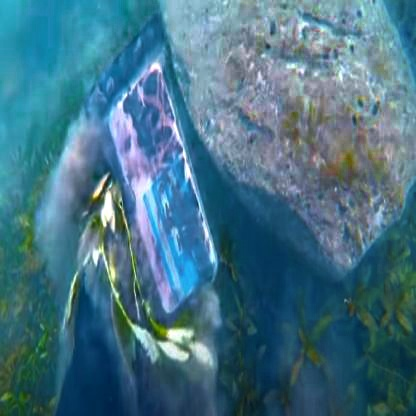cellphone: (83, 29, 232, 343)
